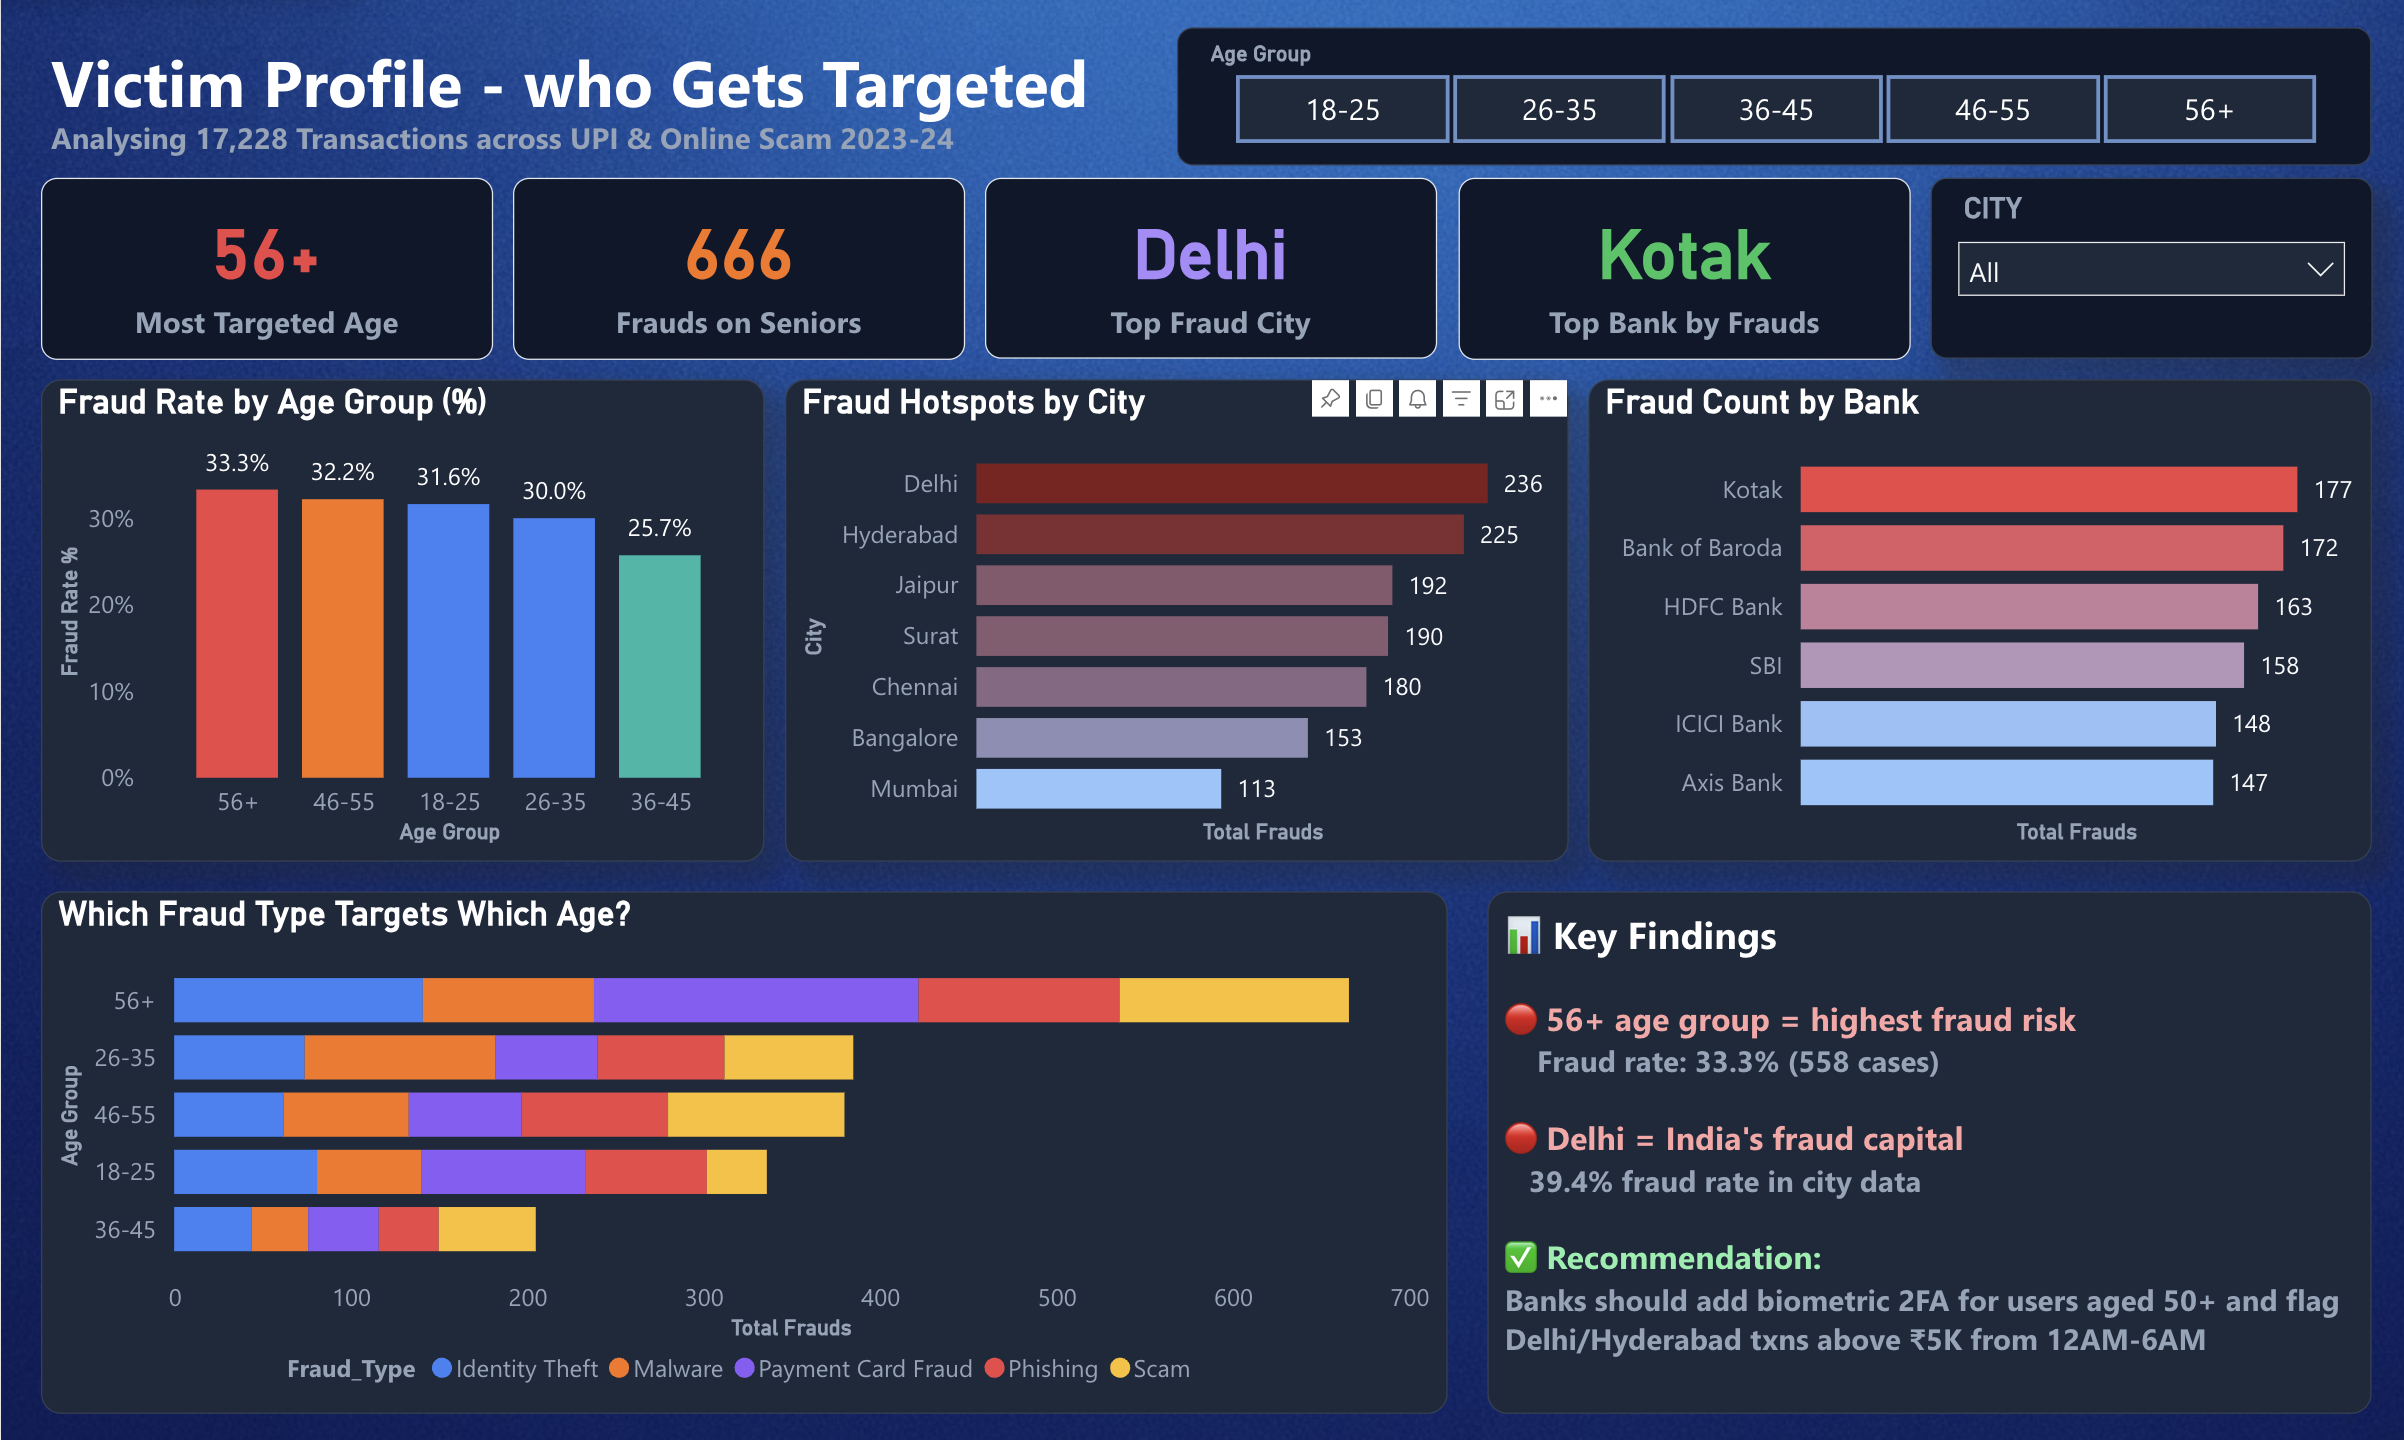

Layout of this report page (visuals, bound fields, positions):
{"tool":"powerbi","page":{"name":"Victim Profile ","canvas":[1200,720],"ordinal":1},"visuals":[{"type":"barChart","title":"Which Fraud Type Targets Which Age?","fields":{"Category":["Master_Fraud_Table.Age_Group"],"Y":["Master_Fraud_Table.Total_Frauds"],"Series":["Master_Fraud_Table.Fraud_Type"]},"box":[20,445,700,260],"z":0},{"type":"textbox","box":[20,15,677.2,59.6],"z":1000},{"type":"textbox","box":[20,55,540.2,29.4],"z":2000},{"type":"card","fields":{"Values":["_Measures.Most Targeted Age"]},"box":[20,90,225,90.4],"z":3000},{"type":"card","fields":{"Values":["_Measures.Frauds on Seniors"]},"box":[255,90,225,90.4],"z":4000},{"type":"card","fields":{"Values":["_Measures.Top Fraud City"]},"box":[490,90,225,90],"z":5000},{"type":"card","title":"hello","fields":{"Values":["_Measures.Top Bank by Frauds"]},"box":[725,90,225,90.4],"z":6000},{"type":"textbox","box":[740,445,440,260],"z":8000},{"type":"clusteredColumnChart","title":"Fraud Rate by Age Group (%)","fields":{"Category":["Master_Fraud_Table.Age_Group"],"Y":["Master_Fraud_Table.Fraud Rate %"]},"box":[20,190,360,240],"z":9000},{"type":"clusteredBarChart","title":"Fraud Hotspots by City","fields":{"Category":["Master_Fraud_Table.City"],"Y":["Master_Fraud_Table.Total_Frauds"]},"box":[390,190,390,240],"z":10000},{"type":"clusteredBarChart","title":"Fraud Count by Bank","fields":{"Y":["Master_Fraud_Table.Total_Frauds"],"Category":["Master_Fraud_Table.Bank_Name"]},"box":[790,190,390,240],"z":11000},{"type":"slicer","fields":{"Values":["Master_Fraud_Table.Age_Group"]},"box":[585.5,15.2,594.6,69],"z":12000},{"type":"slicer","fields":{"Values":["Master_Fraud_Table.City"]},"box":[960,90,220,90],"z":13000}]}

Visuals, with their boxes in screenshot pixels (x1, y1, x2, y2), scaled from the page's 1200x720 canvas onto the 2404x1440 screenshot:
"Which Fraud Type Targets Which Age?" barChart: x1=40, y1=890, x2=1442, y2=1410
textbox: x1=40, y1=30, x2=1397, y2=149
textbox: x1=40, y1=110, x2=1122, y2=169
card - _Measures.Most Targeted Age: x1=40, y1=180, x2=491, y2=361
card - _Measures.Frauds on Seniors: x1=511, y1=180, x2=962, y2=361
card - _Measures.Top Fraud City: x1=982, y1=180, x2=1432, y2=360
"hello" card: x1=1452, y1=180, x2=1903, y2=361
textbox: x1=1482, y1=890, x2=2364, y2=1410
"Fraud Rate by Age Group (%)" clusteredColumnChart: x1=40, y1=380, x2=761, y2=860
"Fraud Hotspots by City" clusteredBarChart: x1=781, y1=380, x2=1563, y2=860
"Fraud Count by Bank" clusteredBarChart: x1=1583, y1=380, x2=2364, y2=860
slicer - Master_Fraud_Table.Age_Group: x1=1173, y1=30, x2=2364, y2=168
slicer - Master_Fraud_Table.City: x1=1923, y1=180, x2=2364, y2=360
